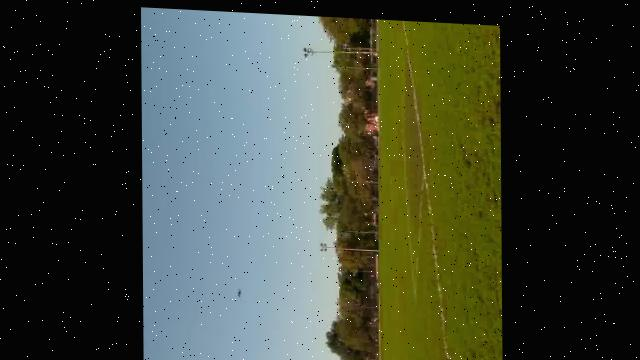drone: (229, 283, 242, 300)
